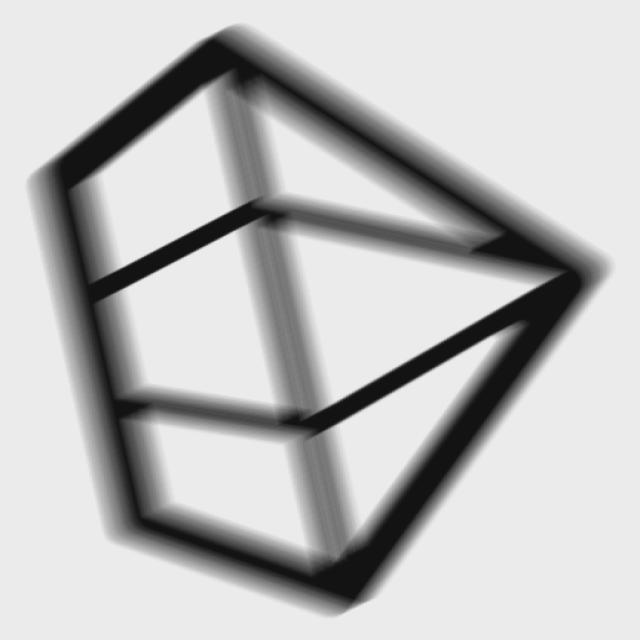diamond: (12, 12, 627, 634)
